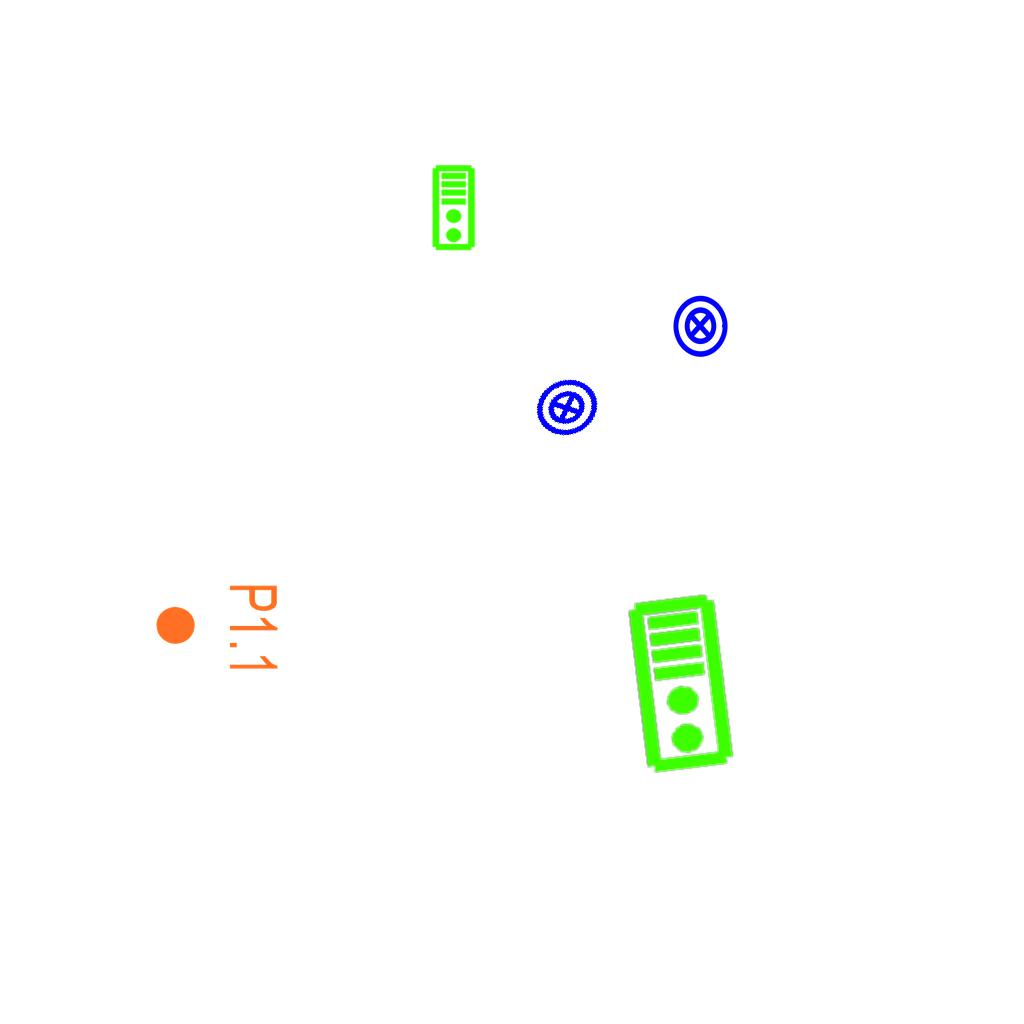Downlight_LED_Einbauleuchten_Flur: (153, 582, 281, 675)
Gegensprechanlage_mit_Video: (624, 590, 741, 778), (431, 164, 478, 252)
Taster_beleuchtet: (523, 364, 611, 452), (667, 293, 733, 359)
